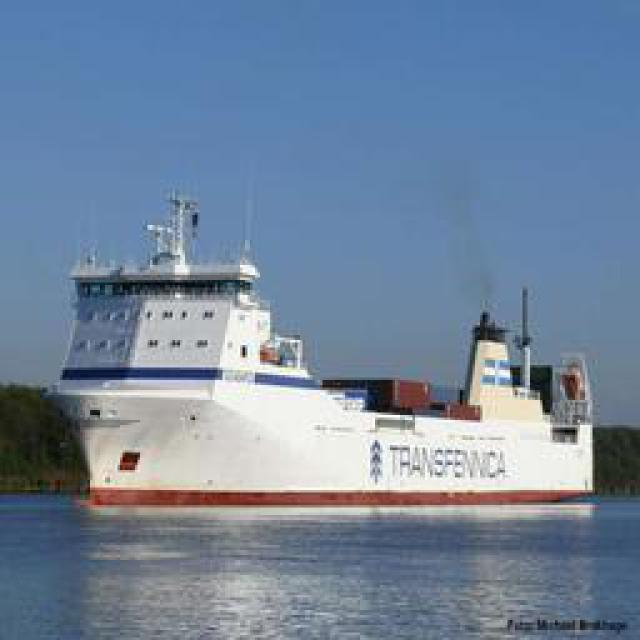Ship: (58, 193, 596, 521)
